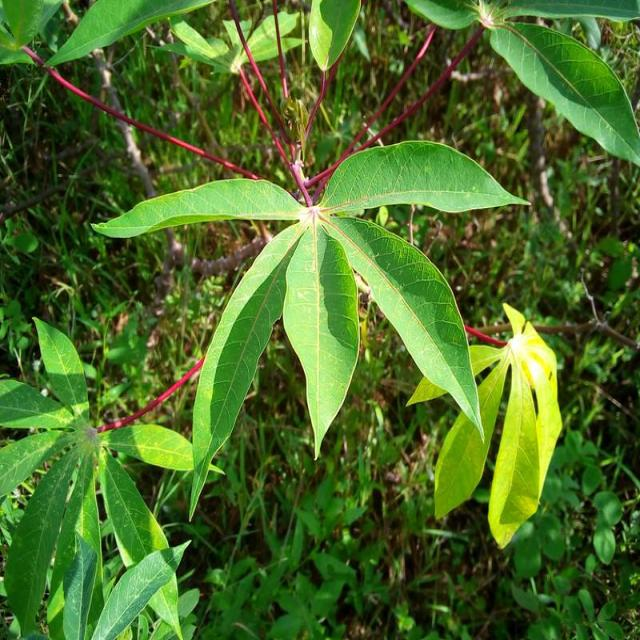cassava leaf: (91, 136, 532, 522), (321, 213, 486, 442), (433, 301, 563, 549), (489, 20, 640, 166), (283, 218, 362, 460), (319, 137, 532, 215)
